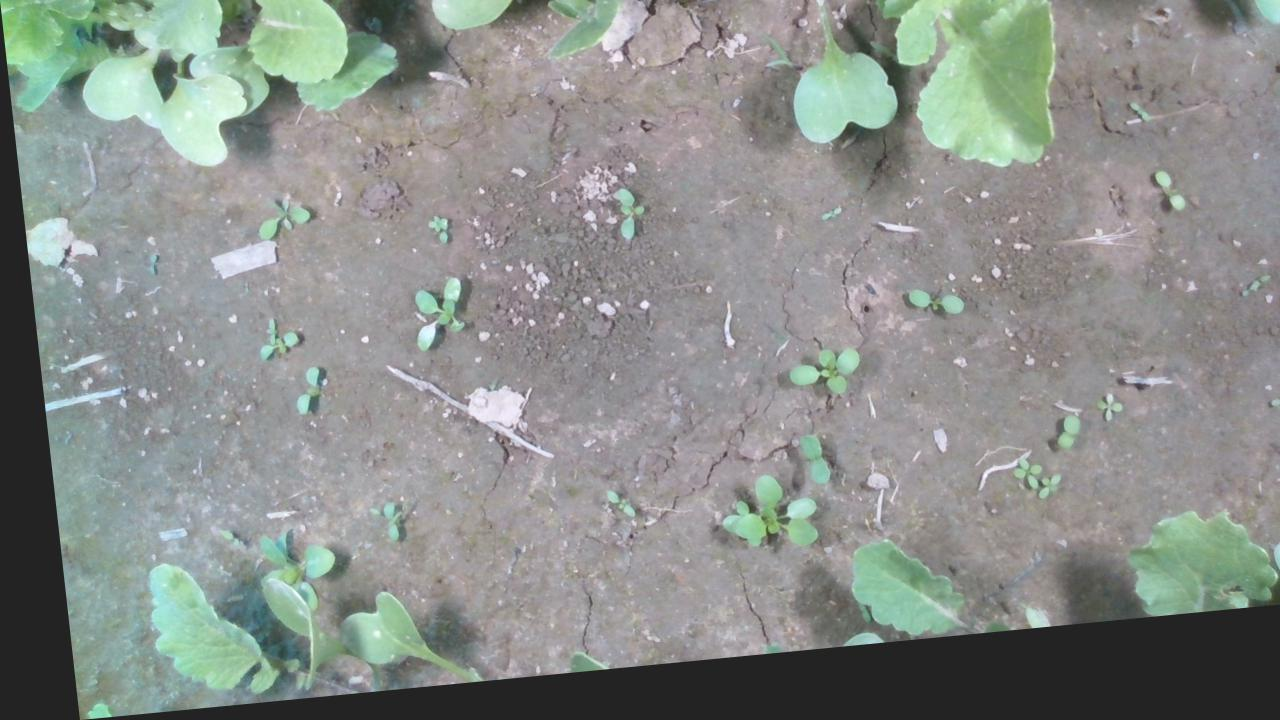weed: (399, 282, 460, 359), (772, 360, 855, 413), (782, 445, 822, 503), (606, 196, 643, 252), (896, 302, 956, 336), (280, 368, 317, 422), (1141, 189, 1180, 238), (1038, 429, 1072, 473), (1080, 410, 1113, 444), (365, 505, 389, 550), (591, 498, 623, 530), (1233, 295, 1266, 315), (1121, 123, 1145, 147), (1253, 416, 1279, 435)
